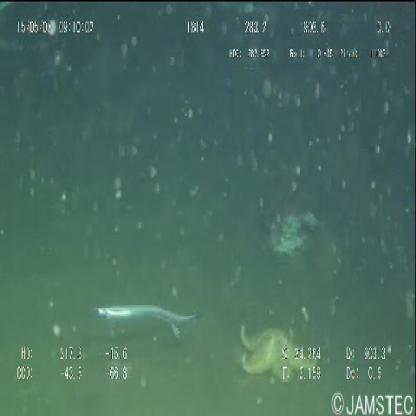Rác: (270, 206, 321, 258)
